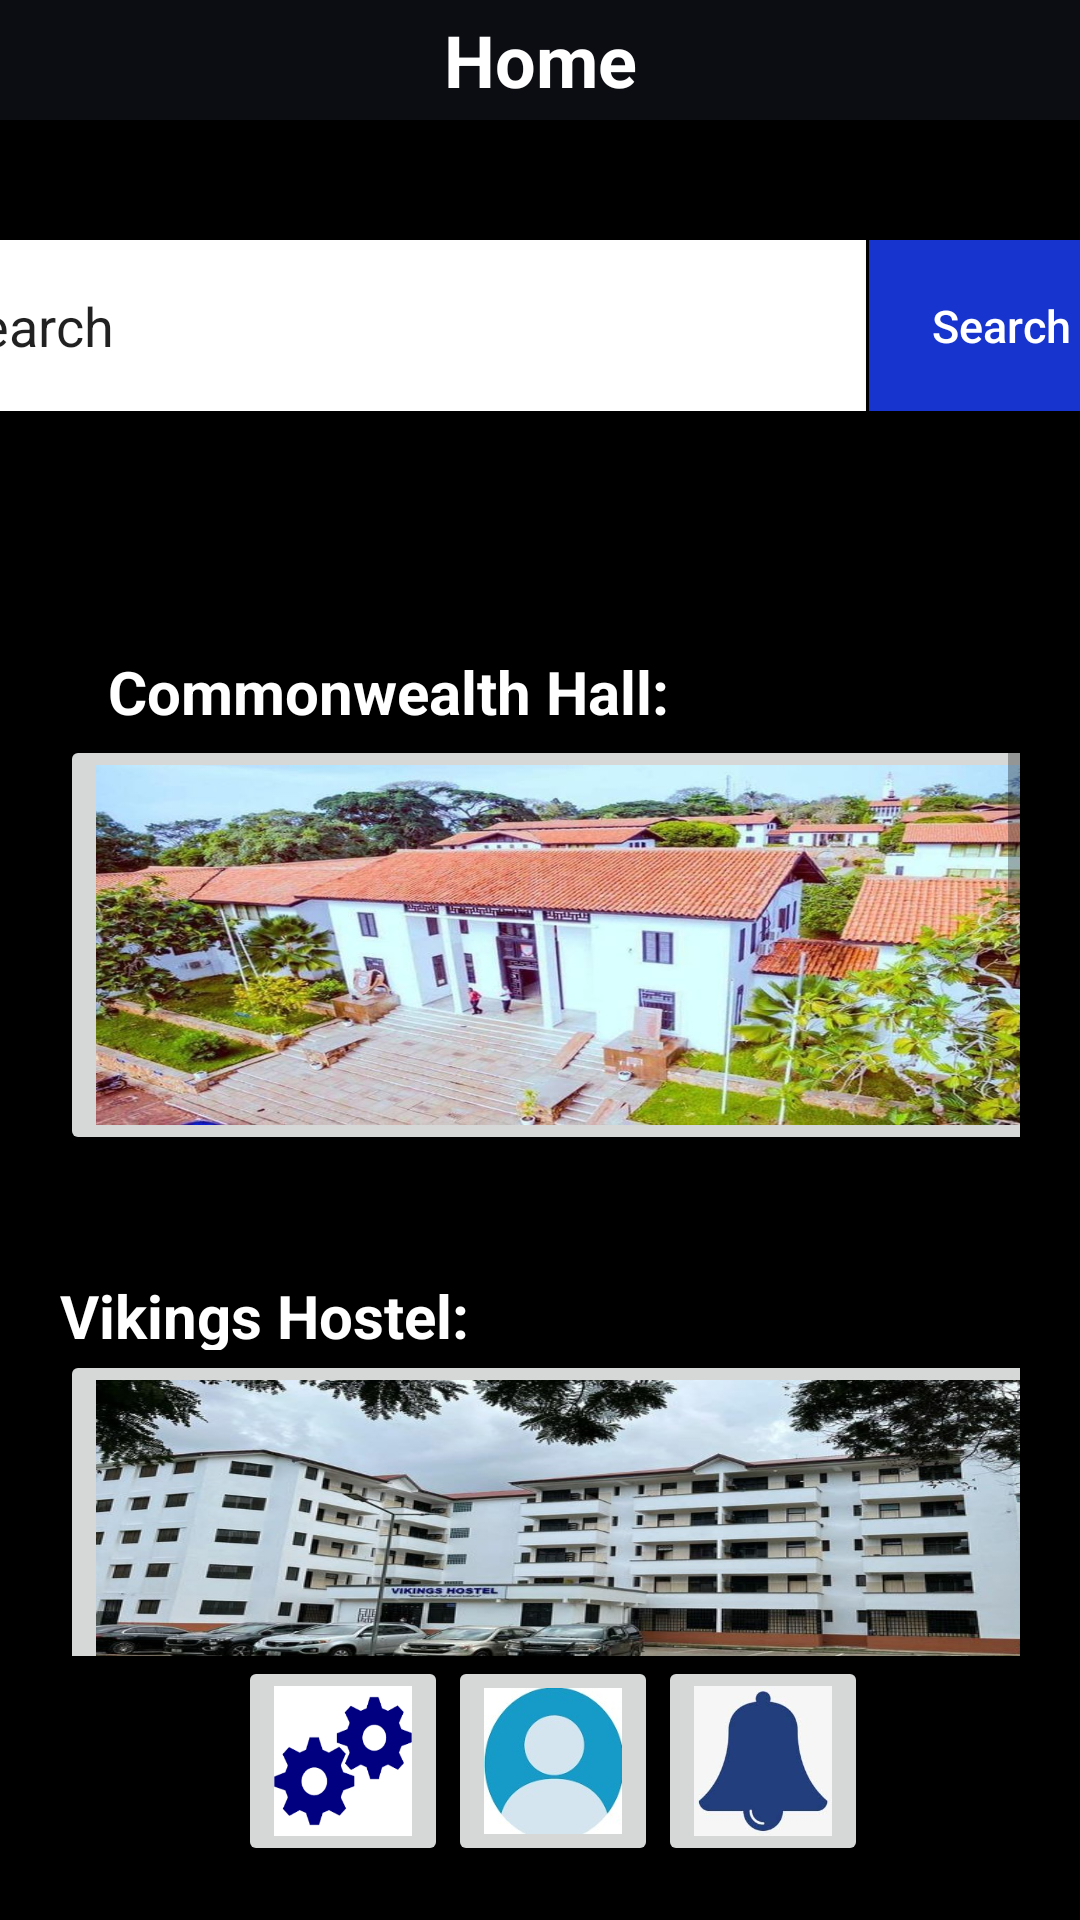

Icon bounding boxes for this 1080px×1920px phone screenshot, format (x1, y1, x2, y2):
noti: (670, 1674, 856, 1848)
seticon: (250, 1674, 436, 1848)
userdp: (460, 1674, 646, 1848)
